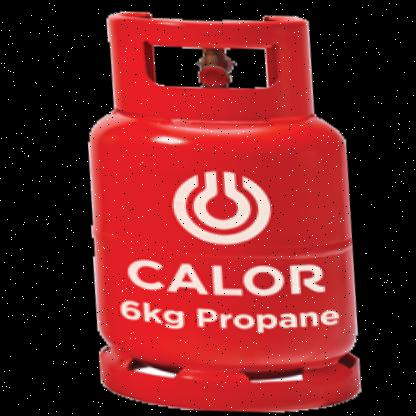gas-tank: (33, 0, 395, 415)
